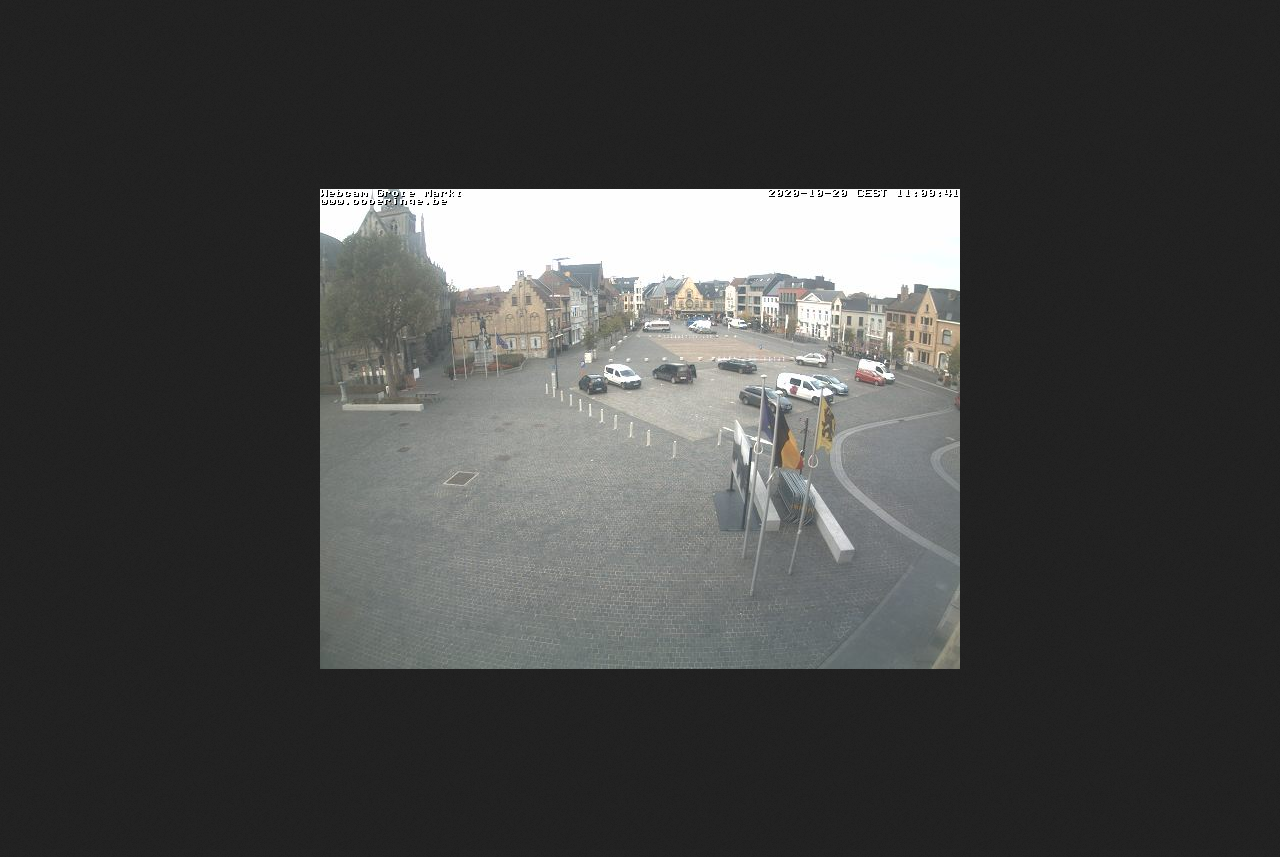maybe: (775, 403, 805, 473), (813, 393, 837, 457), (758, 388, 777, 439), (495, 328, 508, 349)
no: (483, 329, 491, 352), (451, 333, 458, 355), (461, 334, 468, 352)
